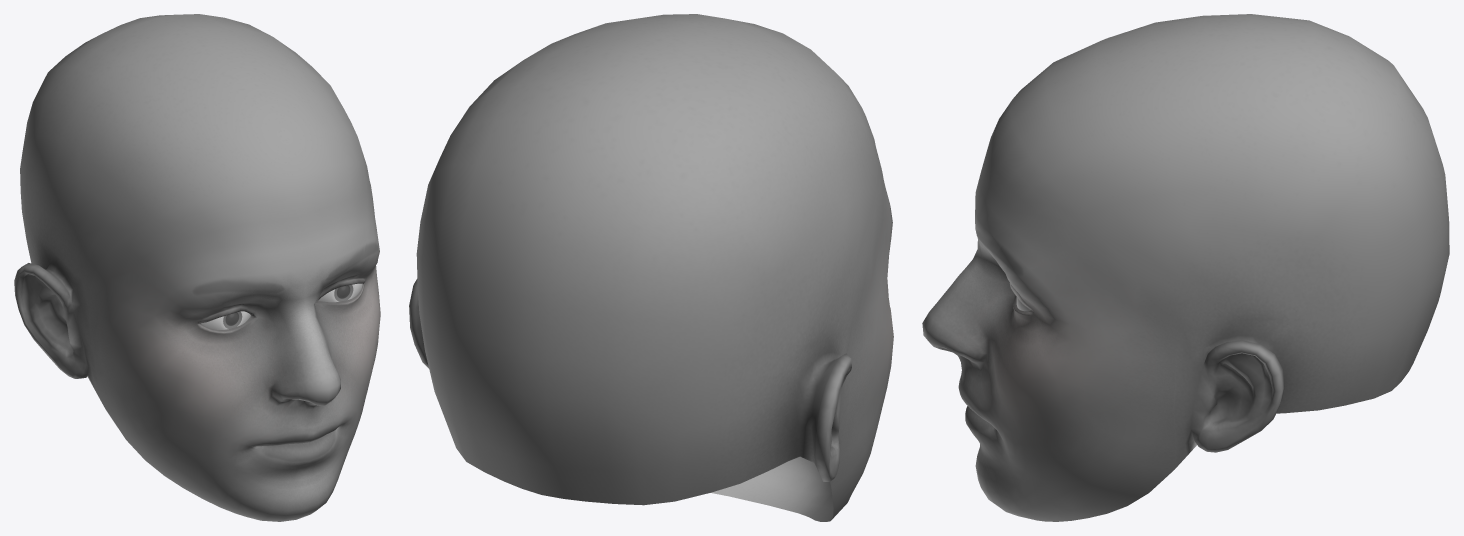
File: FaceCapHeadGeneric.fbx
3 renders of one model, left to right at view 1: azimuth 30°, elevation 25°; view 2: azimuth 150°, elevation 25°; view 3: azimuth 270°, elevation 25°, orthographic. The views are drawn at different scales.
Visible parts, largest first — view 1: head, eyeLeft, eyeRight; view 2: head; view 3: head.
Boxes of the visible parts, x1,y1,x2,y2 form: head: (14,14,380,521); eyeLeft: (201,311,250,329); eyeRight: (318,283,362,302); head: (409,14,893,521); head: (922,14,1449,521).
Size of the model in its own units: 0.1903 by 0.2338 by 0.2357.
Materials: 1 (1 with a texture image).
